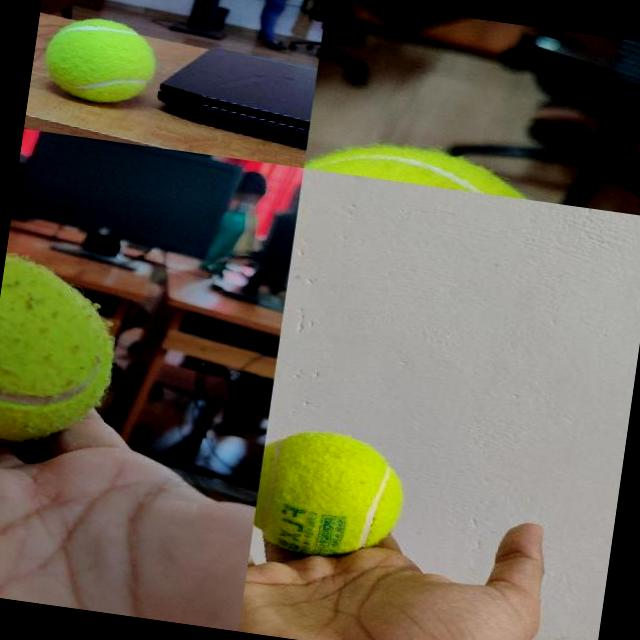Tennis Ball: (0, 254, 127, 457), (252, 423, 412, 567), (43, 13, 161, 108)
